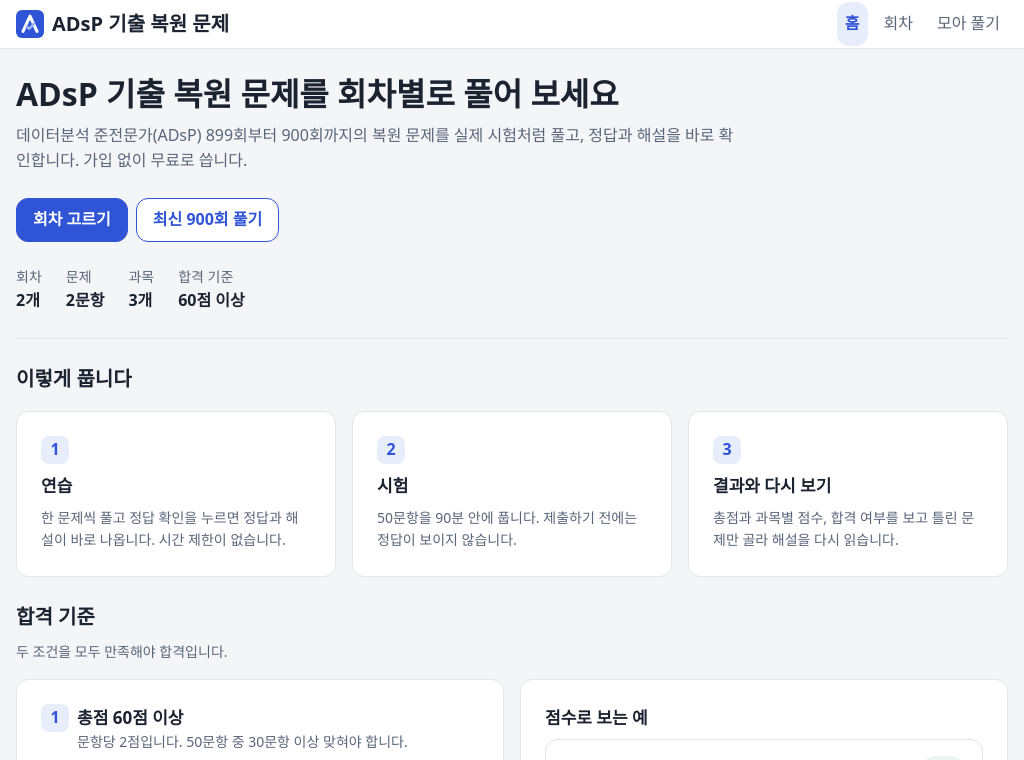
Test: no PDFs hides home link, header link and info section
Step 1. Click the link "최신 900회 풀기" → x=208, y=220, box [136,198,279,242]
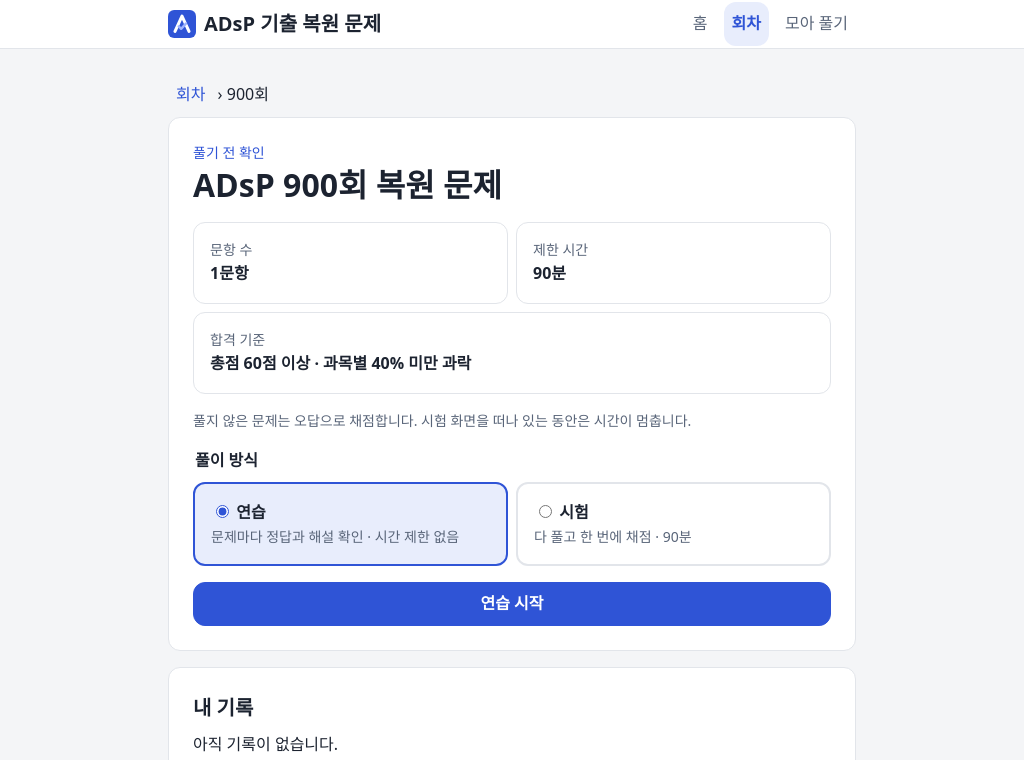
Now the heading "내 기록" is shown, box [193,694,253,721]
